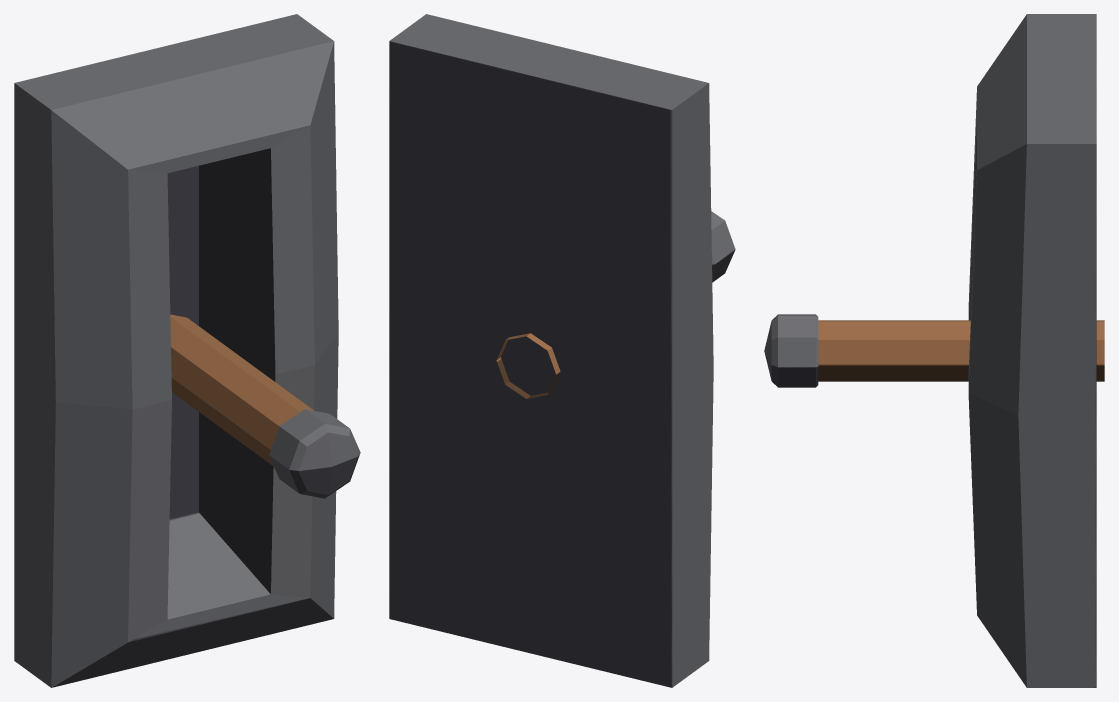
File: Lever+Lever_Box_Unwrapped.FBX
3 views of the same model, side by side, from view 1: azimuth 30°, elevation 25°; view 2: azimuth 150°, elevation 25°; view 3: azimuth 270°, elevation 25° (orthographic). The views are drawn at different scales.
Parts seen in each view (by area): view 1: Lever_Box, Lever; view 2: Lever_Box, Lever; view 3: Lever_Box, Lever.
Part boxes in pixels (x1,y1,x2,y2): Lever_Box: (14,14,338,687); Lever: (170,314,360,498); Lever_Box: (389,14,713,687); Lever: (496,211,735,398); Lever_Box: (968,14,1096,687); Lever: (764,314,1104,387).
Bounding box in the file's own units: 0.1826 × 0.3564 × 0.2022.
